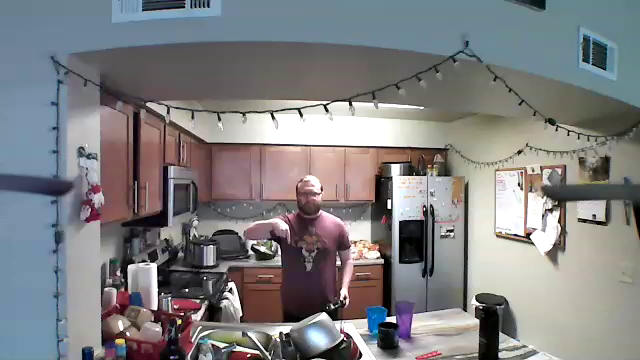down: (266, 213, 296, 249)
